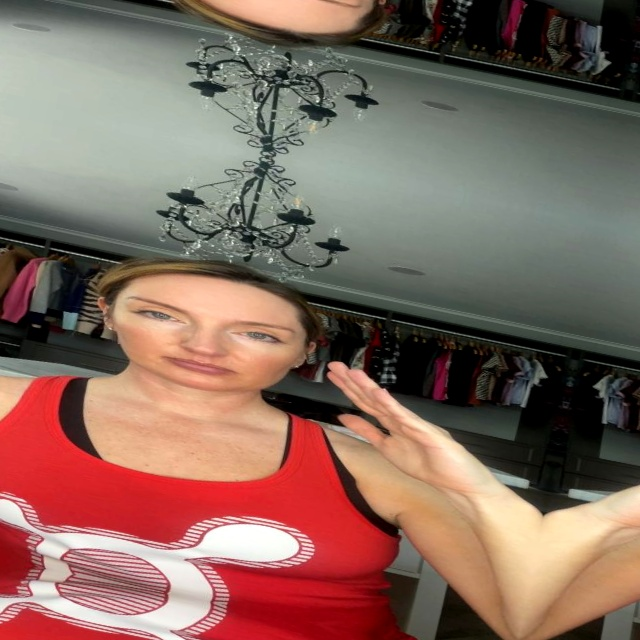Paper: (413, 0, 607, 34)
